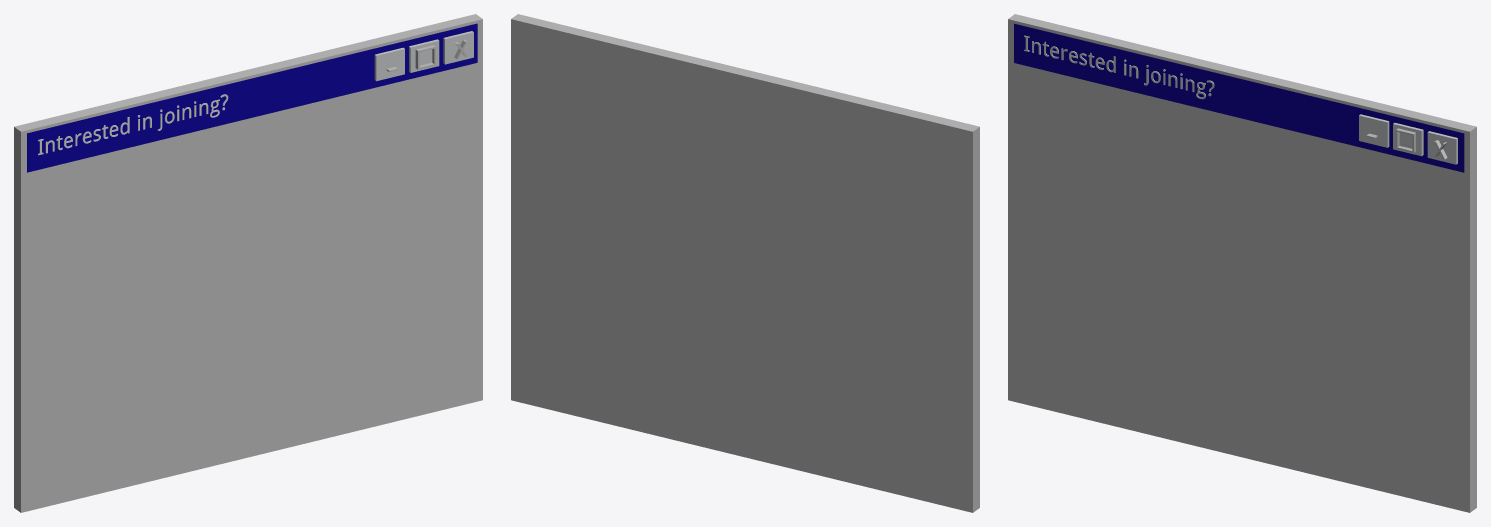
File: Epic Hango.glb
3 views of the same model, side by side, from view 1: azimuth 30°, elevation 25°; view 2: azimuth 150°, elevation 25°; view 3: azimuth 330°, elevation 25° (orthographic).
Parts seen in each view (by area): view 1: Mesh_Mesh_head_geo.001_lambert2SG.001; view 2: Mesh_Mesh_head_geo.001_lambert2SG.001; view 3: Mesh_Mesh_head_geo.001_lambert2SG.001.
Part boxes in pixels (x1,y1,x2,y2): Mesh_Mesh_head_geo.001_lambert2SG.001: (14, 14, 482, 512); Mesh_Mesh_head_geo.001_lambert2SG.001: (511, 14, 979, 512); Mesh_Mesh_head_geo.001_lambert2SG.001: (1008, 14, 1476, 512).
Size of the model in its own units: 38.01 by 29.97 by 1.71.
